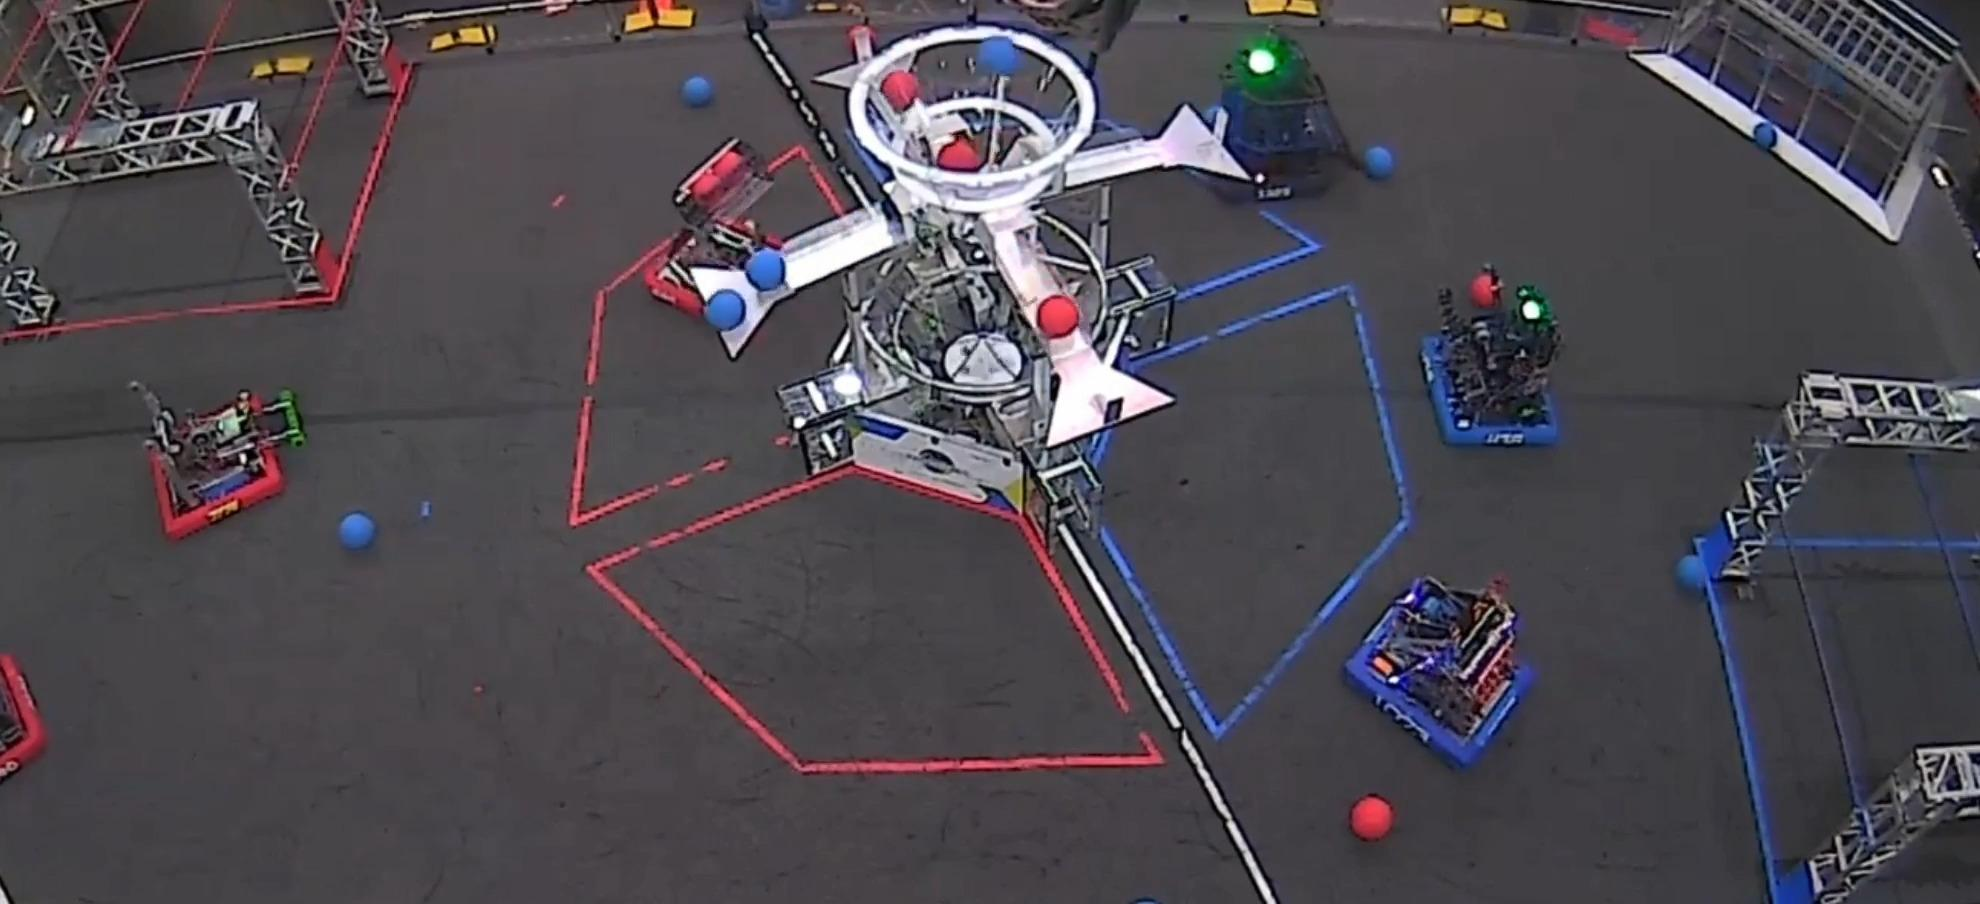Robots: (1347, 577, 1529, 766), (130, 383, 306, 539), (1424, 265, 1560, 444), (647, 139, 780, 316), (1220, 30, 1357, 199), (0, 655, 45, 779)
